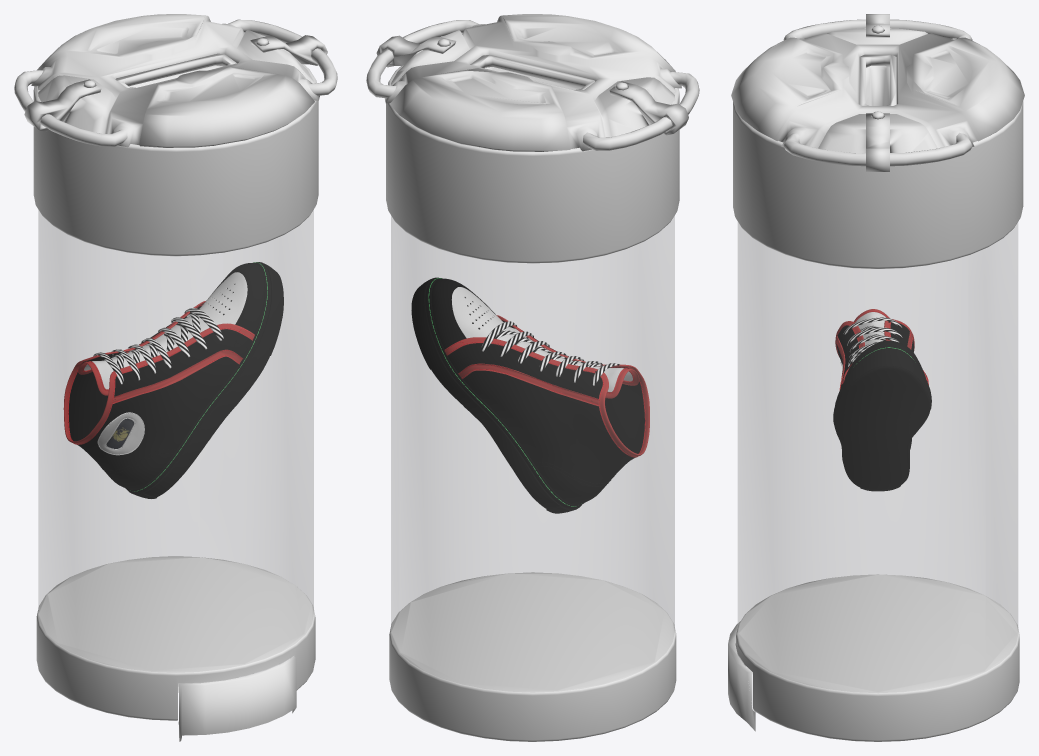
Rendered from vipshoe.glb.
3 renders of one model, left to right at view 1: azimuth 30°, elevation 25°; view 2: azimuth 150°, elevation 25°; view 3: azimuth 270°, elevation 25°, orthographic. The views are drawn at different scales.
Visible parts, largest first — view 1: Object_5, upper.006; view 2: Object_5, upper.006; view 3: Object_5, upper.006.
Part boxes in pixels (x1=…): Object_5: x1=14, y1=14, x2=337, y2=741; upper.006: x1=63, y1=262, x2=283, y2=498; Object_5: x1=366, y1=14, x2=699, y2=741; upper.006: x1=411, y1=277, x2=649, y2=513; Object_5: x1=728, y1=14, x2=1024, y2=741; upper.006: x1=833, y1=309, x2=931, y2=491.
Bounding box in the file's own units: 0.8705 × 1.78 × 0.7532.
13 materials, 2 textured.
